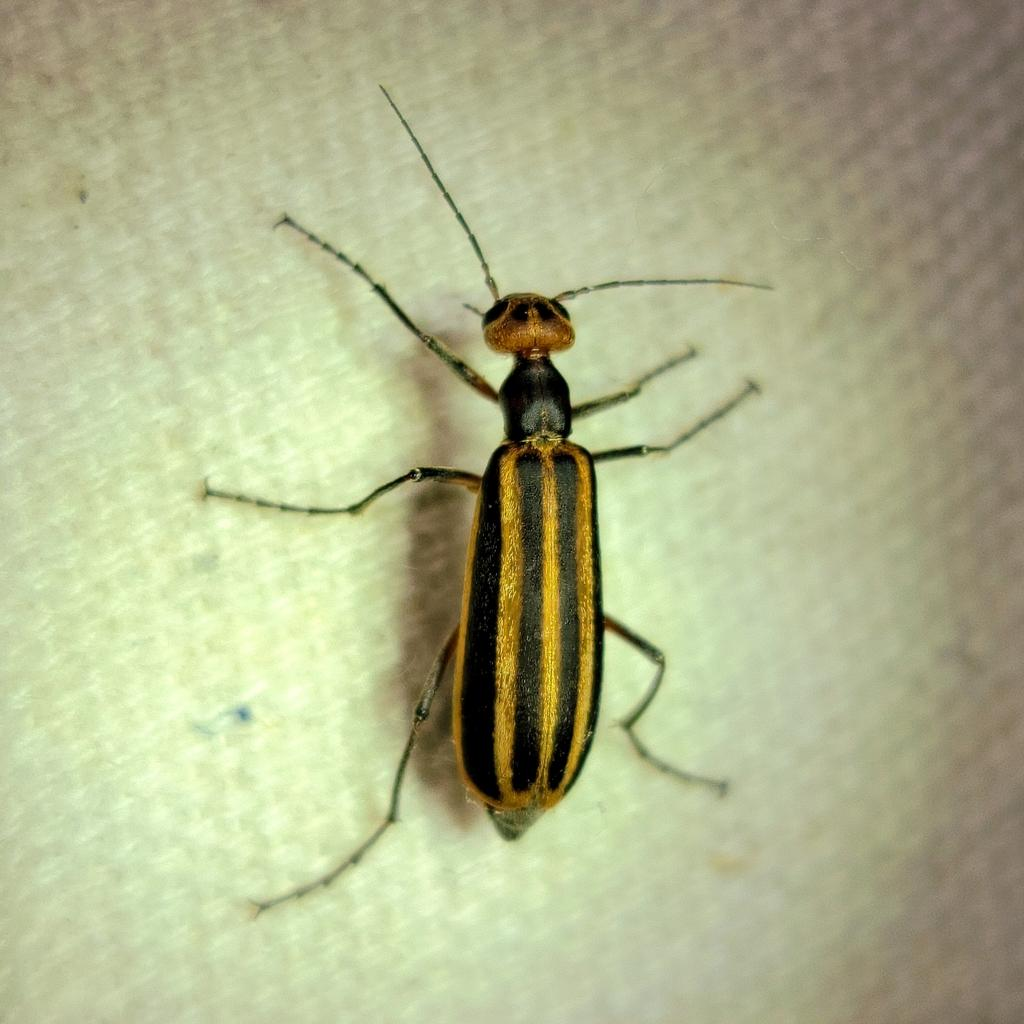blister_beetle: (130, 9, 953, 998)
